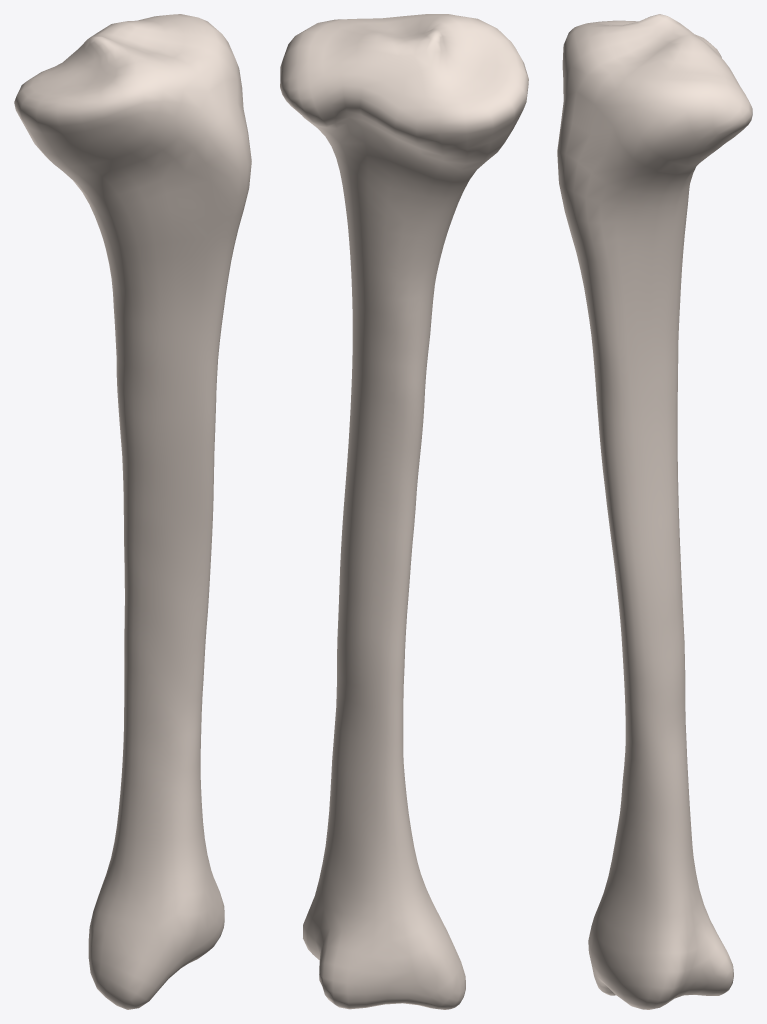
Rendered from frau2-1045.glb.
3 views of the same model, side by side, from view 1: azimuth 30°, elevation 25°; view 2: azimuth 150°, elevation 25°; view 3: azimuth 270°, elevation 25° (orthographic). The views are drawn at different scales.
Visible parts, largest first — view 1: VH_F_tibia_L; view 2: VH_F_tibia_L; view 3: VH_F_tibia_L.
Part boxes in pixels (x1,y1,x2,y2): VH_F_tibia_L: (14, 14, 251, 1009); VH_F_tibia_L: (280, 14, 528, 1009); VH_F_tibia_L: (557, 14, 752, 1009).
Bounding box in the file's own units: 0.0791 × 0.3435 × 0.0624.
